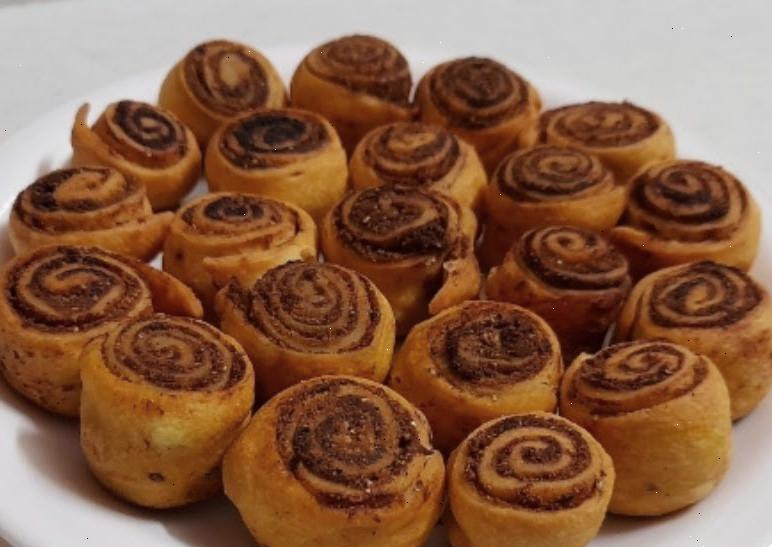bhakarwadi: (10, 35, 772, 540)
